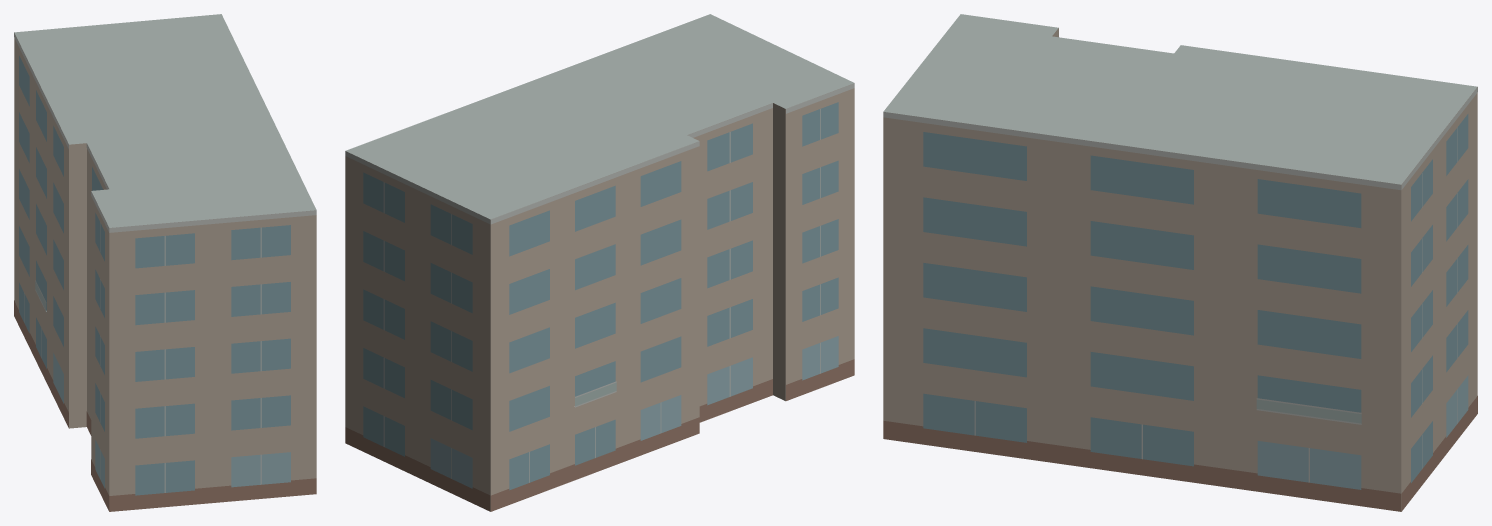
File: survey-upis-33001293.glb
The picture shows the model from 3 angles, left to right: view 1: azimuth 30°, elevation 25°; view 2: azimuth 150°, elevation 25°; view 3: azimuth 270°, elevation 25°; orthographic projection. The views are drawn at different scales.
Parts seen in each view (by area): view 1: survey-upis-33001293.tmp; view 2: survey-upis-33001293.tmp; view 3: survey-upis-33001293.tmp.
Part boxes in pixels (bbox=[...]): survey-upis-33001293.tmp: bbox=[14, 14, 316, 511]; survey-upis-33001293.tmp: bbox=[345, 14, 854, 511]; survey-upis-33001293.tmp: bbox=[883, 14, 1477, 511].
Bounding box in the file's own units: 15.9 × 14.2 × 23.39.
